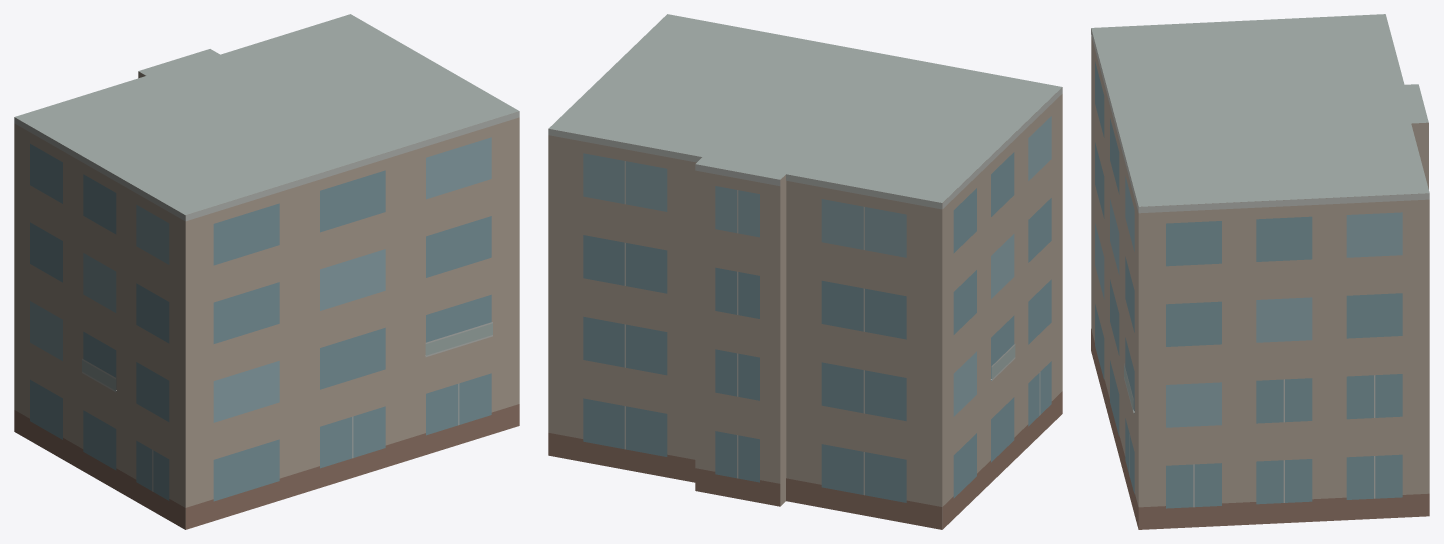
The model's file is survey-upis-32820982.glb.
3 views of the same model, side by side, from view 1: azimuth 30°, elevation 25°; view 2: azimuth 150°, elevation 25°; view 3: azimuth 270°, elevation 25° (orthographic). The views are drawn at different scales.
Parts seen in each view (by area): view 1: survey-upis-32820982.tmp; view 2: survey-upis-32820982.tmp; view 3: survey-upis-32820982.tmp.
Boxes of the visible parts, bbox=[...] form: survey-upis-32820982.tmp: bbox=[14, 14, 519, 529]; survey-upis-32820982.tmp: bbox=[548, 14, 1062, 529]; survey-upis-32820982.tmp: bbox=[1091, 14, 1429, 529].
Size of the model in its own units: 15.87 by 12.38 by 11.77.
